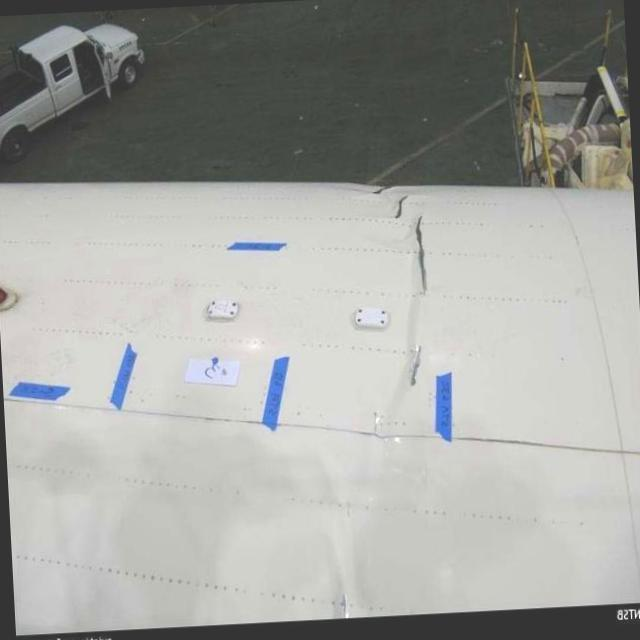crack: (406, 212, 432, 294), (391, 194, 412, 223)
